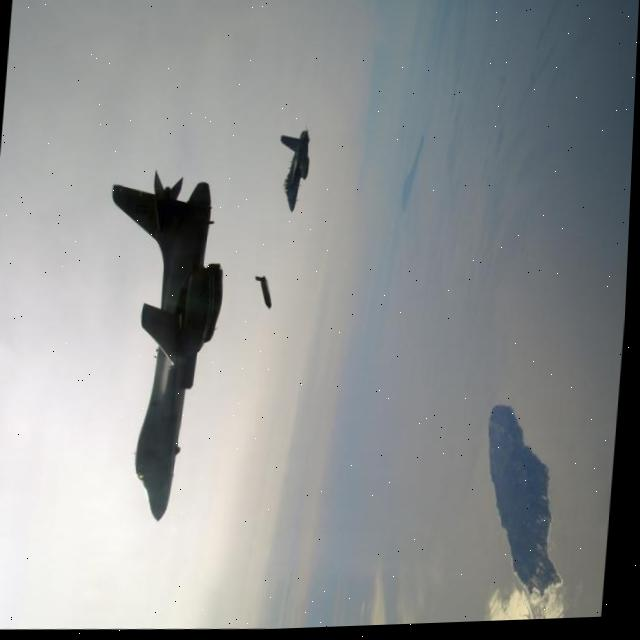missile: (248, 274, 279, 314)
